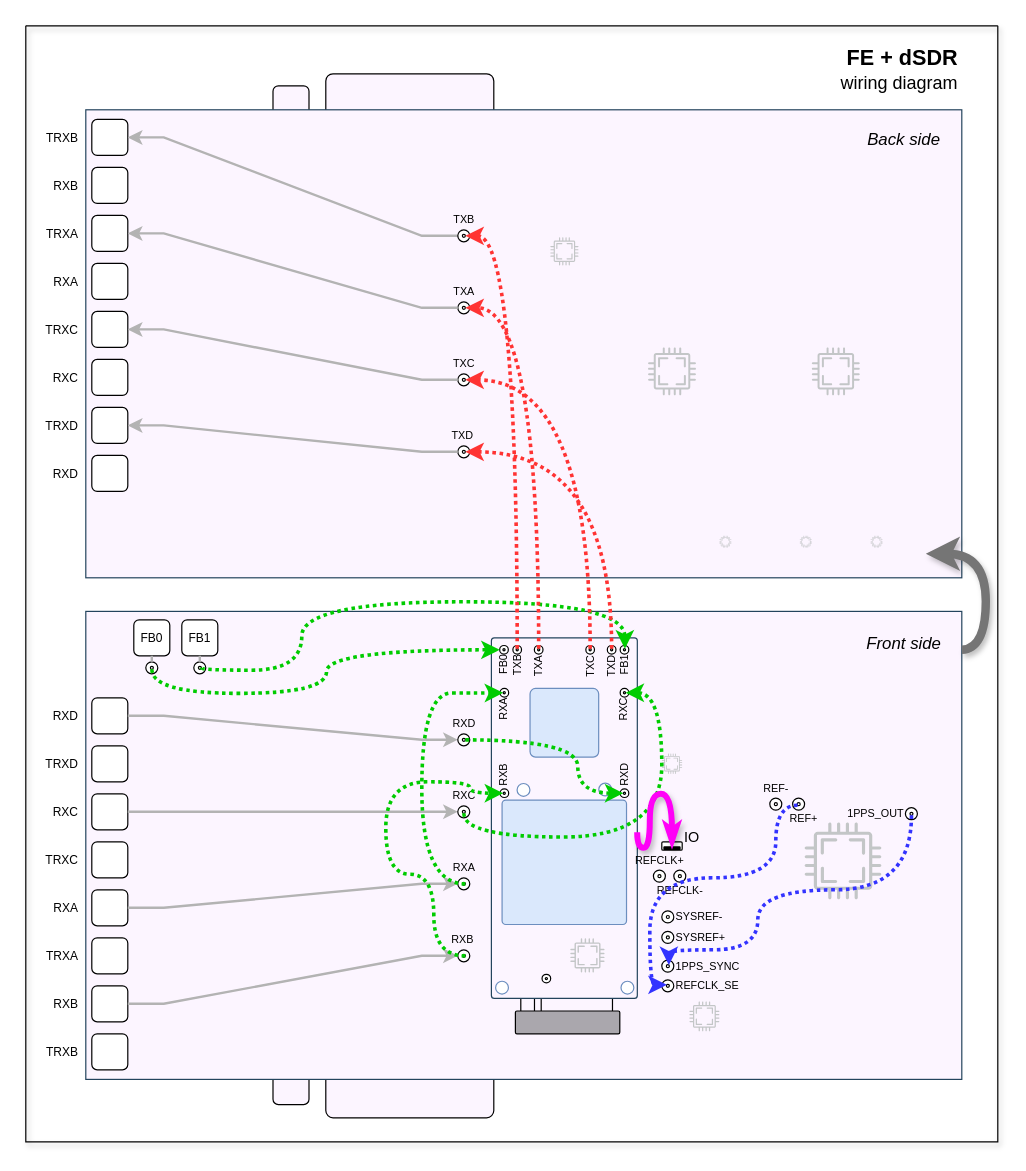
This 1026x1171 diagram has some shape labels left out. Each missing label, with the centre of its shape:
"AFE" belongs at point 564,722.
"FPGA" belongs at point 564,861.
